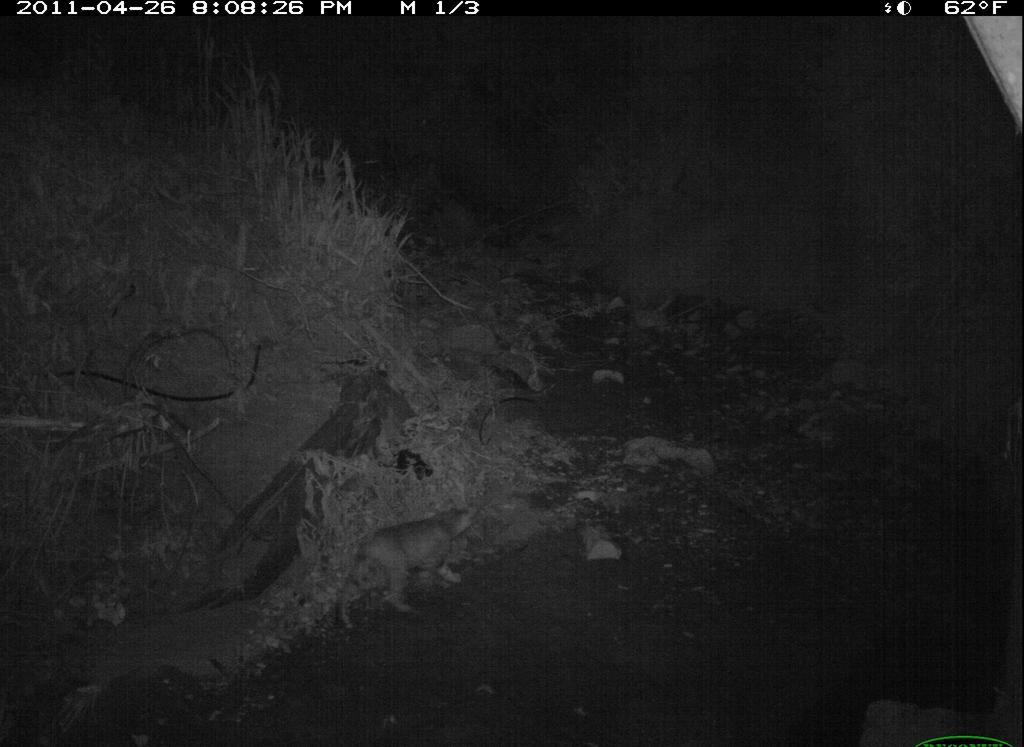bobcat: (342, 502, 493, 623)
